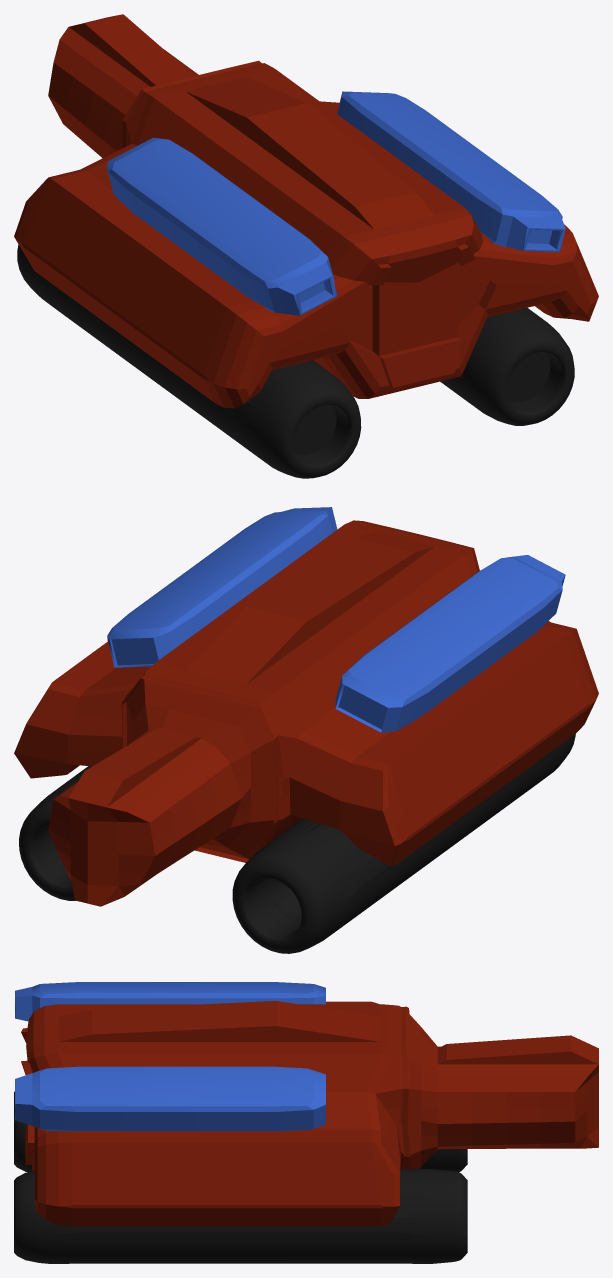
Rendered from Derelict_Ship.fbx.
3 renders of one model, top to bottom at view 1: azimuth 30°, elevation 25°; view 2: azimuth 150°, elevation 25°; view 3: azimuth 270°, elevation 25°, orthographic. The views are drawn at different scales.
Visible parts, largest first — view 1: Fuselage, Rear_Thrusters, Engines; view 2: Fuselage, Rear_Thrusters, Engines; view 3: Fuselage, Rear_Thrusters, Engines.
Part boxes in pixels (x1=…): Fuselage: x1=14, y1=14, x2=598, y2=408; Rear_Thrusters: x1=107, y1=91, x2=565, y2=315; Engines: x1=17, y1=244, x2=574, y2=478; Fuselage: x1=14, y1=520, x2=598, y2=906; Rear_Thrusters: x1=107, y1=507, x2=565, y2=732; Engines: x1=19, y1=733, x2=575, y2=953; Fuselage: x1=21, y1=1001, x2=598, y2=1226; Rear_Thrusters: x1=15, y1=982, x2=325, y2=1131; Engines: x1=14, y1=1091, x2=467, y2=1263.
Bounding box in the file's own units: 7.99 × 4.71 × 12.34.
